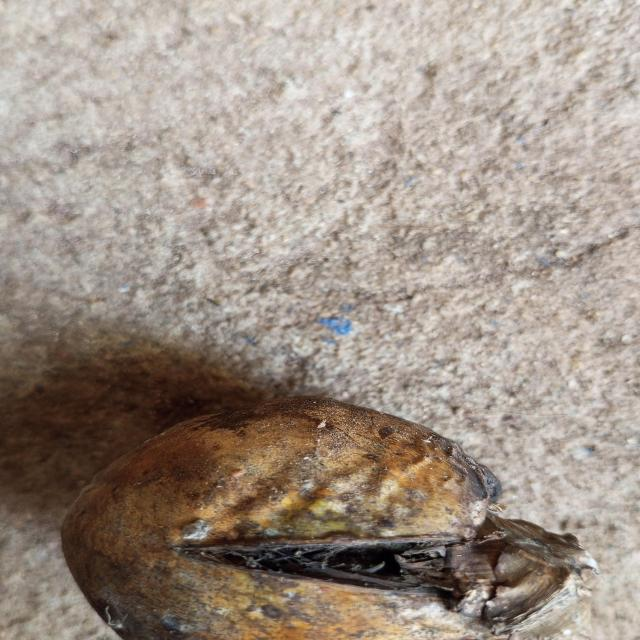damaged: (59, 394, 598, 640)
